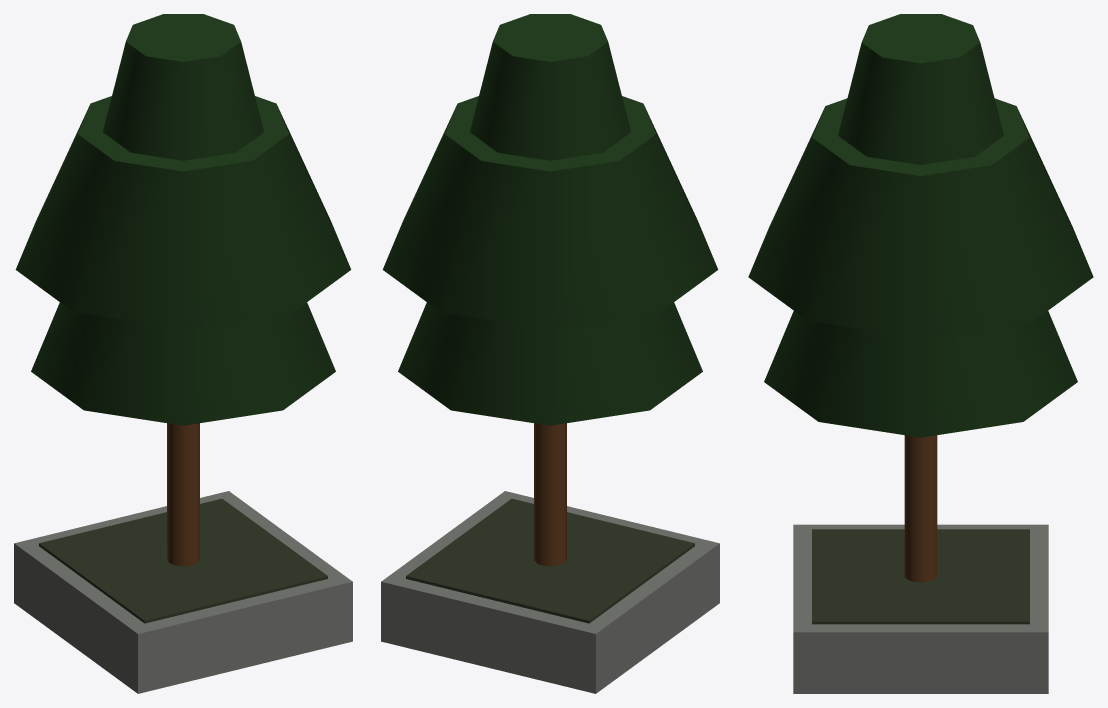
The model's file is planter_tree.obj.
The picture shows the model from 3 angles, left to right: view 1: azimuth 30°, elevation 25°; view 2: azimuth 150°, elevation 25°; view 3: azimuth 270°, elevation 25°; orthographic projection. The views are drawn at different scales.
Visible parts, largest first — view 1: Foliage, Concrete, Soil, Wood; view 2: Foliage, Concrete, Soil, Wood; view 3: Foliage, Concrete, Soil, Wood.
Boxes of the visible parts, x1,y1,x2,y2 form: Foliage: [15, 14, 351, 425]; Concrete: [14, 491, 352, 693]; Soil: [39, 498, 327, 623]; Wood: [167, 423, 199, 566]; Foliage: [382, 14, 718, 425]; Concrete: [381, 491, 719, 693]; Soil: [406, 498, 694, 623]; Wood: [534, 423, 566, 566]; Foliage: [748, 14, 1093, 437]; Concrete: [793, 524, 1048, 693]; Soil: [812, 529, 1029, 624]; Wood: [904, 435, 937, 582].
Bounding box in the file's own units: 3.2 × 6.25 × 3.25.
